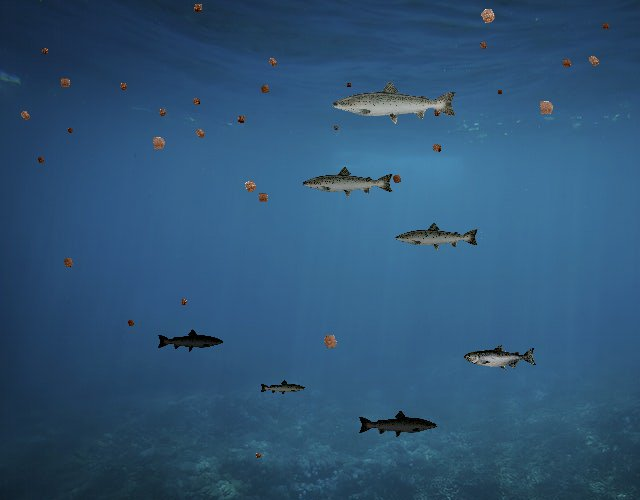Fish: (330, 79, 459, 125), (301, 165, 395, 199), (394, 221, 480, 252), (357, 410, 438, 439), (464, 344, 537, 371), (157, 328, 225, 353), (260, 380, 307, 397)
Pellet: (238, 174, 263, 199), (176, 295, 191, 310), (124, 316, 138, 330), (38, 44, 52, 58), (252, 449, 264, 461)
